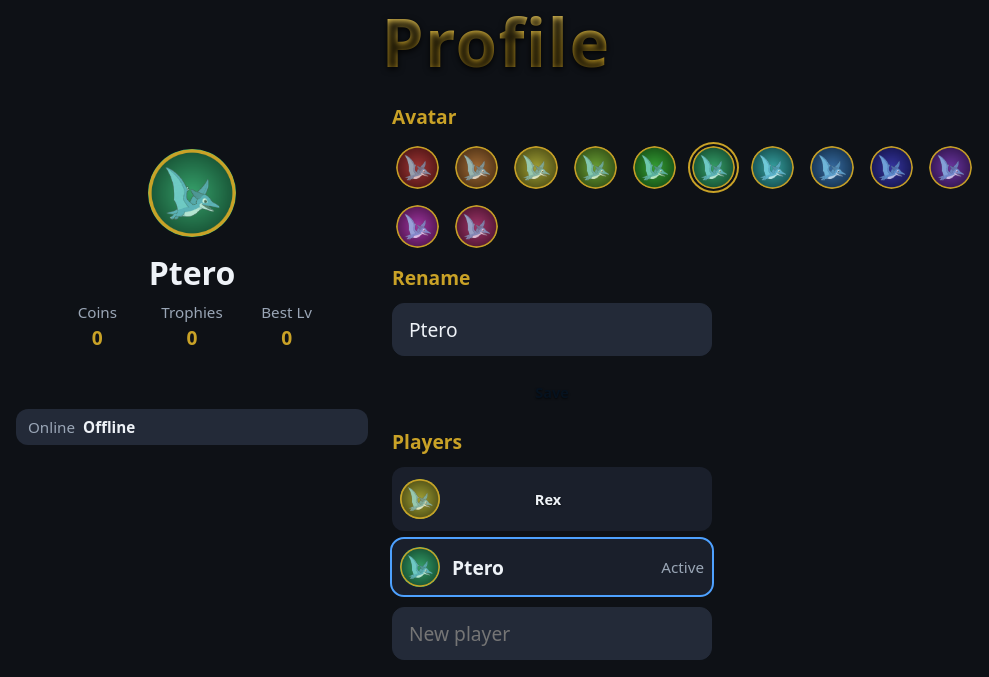
Test: ProfileScreen › tocar um perfil não-ativo troca o ativo
The image size is (989, 677).
Click the button "Rex": click(548, 499) [452,475,644,523]
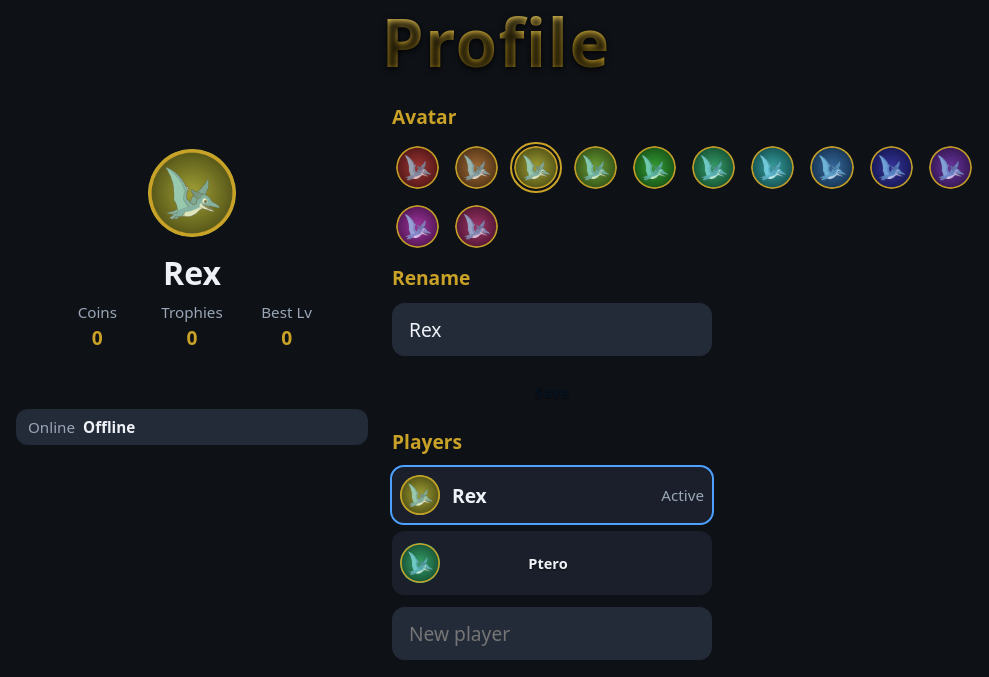
Check: the 1st text "Rex" is shown, box [163,251,221,294]
